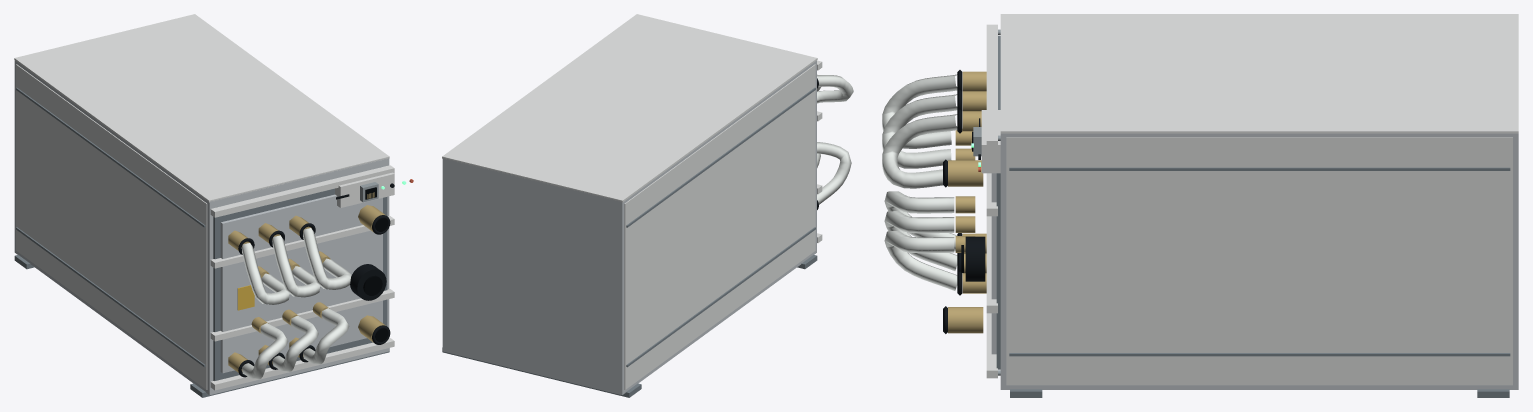
The model's file is antminer-s19-xp-hydro.glb.
The picture shows the model from 3 angles, left to right: view 1: azimuth 30°, elevation 25°; view 2: azimuth 150°, elevation 25°; view 3: azimuth 270°, elevation 25°; orthographic projection. The views are drawn at different scales.
Parts seen in each view (by area): view 1: housing_light, housing_silver, housing_hose, housing_edge, housing_brass, housing_black, housing_port, housing_yellow; view 2: housing_light, housing_silver, housing_edge, housing_hose; view 3: housing_light, housing_hose, housing_silver, housing_edge, housing_brass, housing_black.
Part boxes in pixels (box(x1,y1,x2,y2)): housing_light: box(14, 14, 394, 390); housing_silver: box(14, 60, 389, 395); housing_hose: box(241, 228, 351, 379); housing_edge: box(14, 87, 389, 397); housing_brass: box(228, 192, 385, 372); housing_black: box(238, 183, 394, 377); housing_port: box(363, 187, 387, 342); housing_yellow: box(237, 285, 254, 310); housing_light: box(442, 14, 822, 389); housing_silver: box(442, 60, 816, 394); housing_edge: box(442, 87, 817, 397); housing_hose: box(817, 74, 853, 204); housing_light: box(981, 14, 1518, 385); housing_hose: box(882, 74, 957, 290); housing_silver: box(991, 133, 1518, 389); housing_edge: box(996, 35, 1510, 397); housing_brass: box(948, 71, 986, 333); housing_black: box(943, 70, 985, 333).
Bounding box in the file's own units: 0.2173 × 0.2075 × 0.4522.
